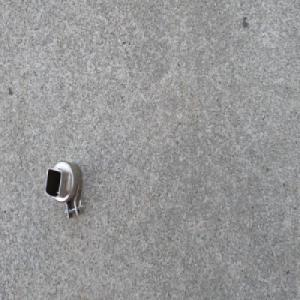MetalPart: (44, 159, 85, 221)
